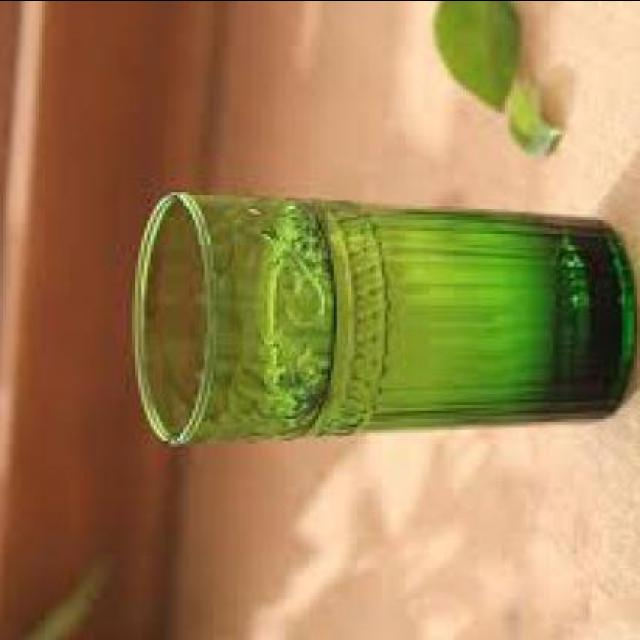kaca: (129, 194, 640, 449)
